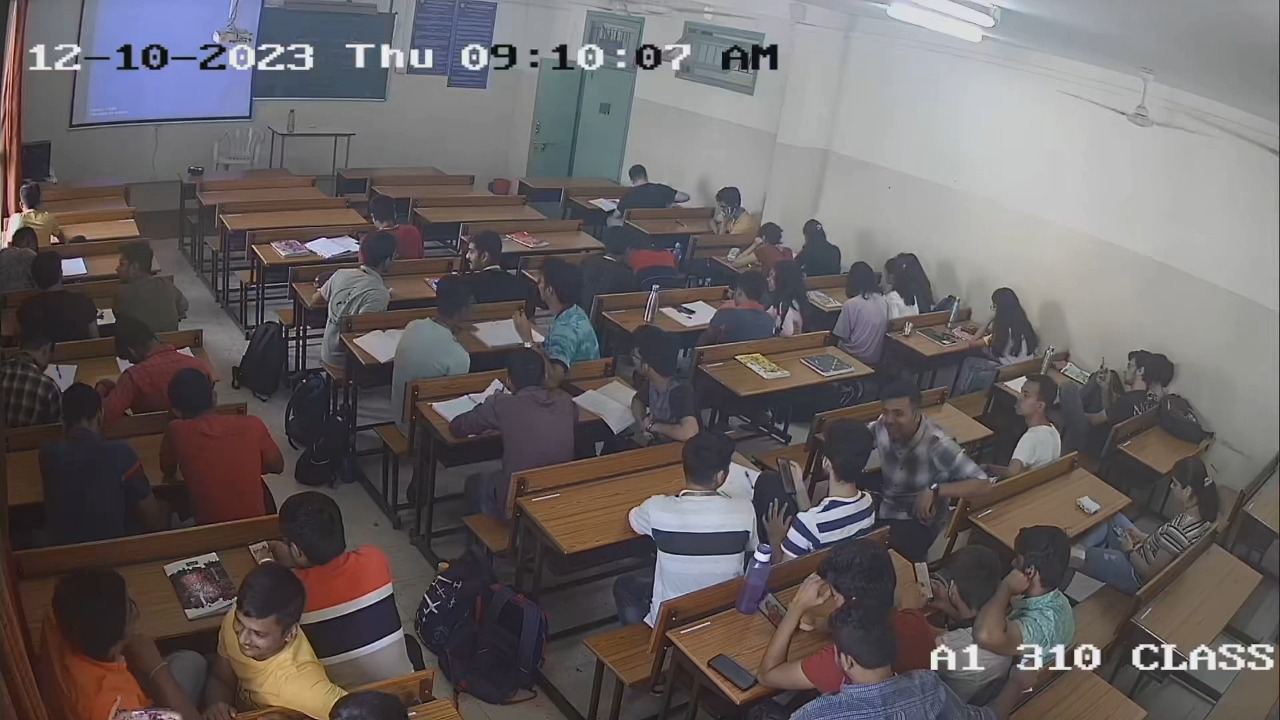cell-phones: (753, 590, 799, 635), (706, 652, 759, 690), (911, 559, 936, 604), (246, 538, 278, 572), (775, 456, 798, 495), (1110, 522, 1136, 549), (559, 382, 588, 398), (670, 302, 697, 316), (960, 324, 983, 339)
person: (276, 489, 418, 656), (789, 598, 973, 720), (790, 535, 942, 675), (769, 416, 877, 545), (932, 542, 1015, 709), (1122, 454, 1219, 586), (630, 324, 700, 446), (693, 269, 774, 349), (979, 286, 1040, 375)
